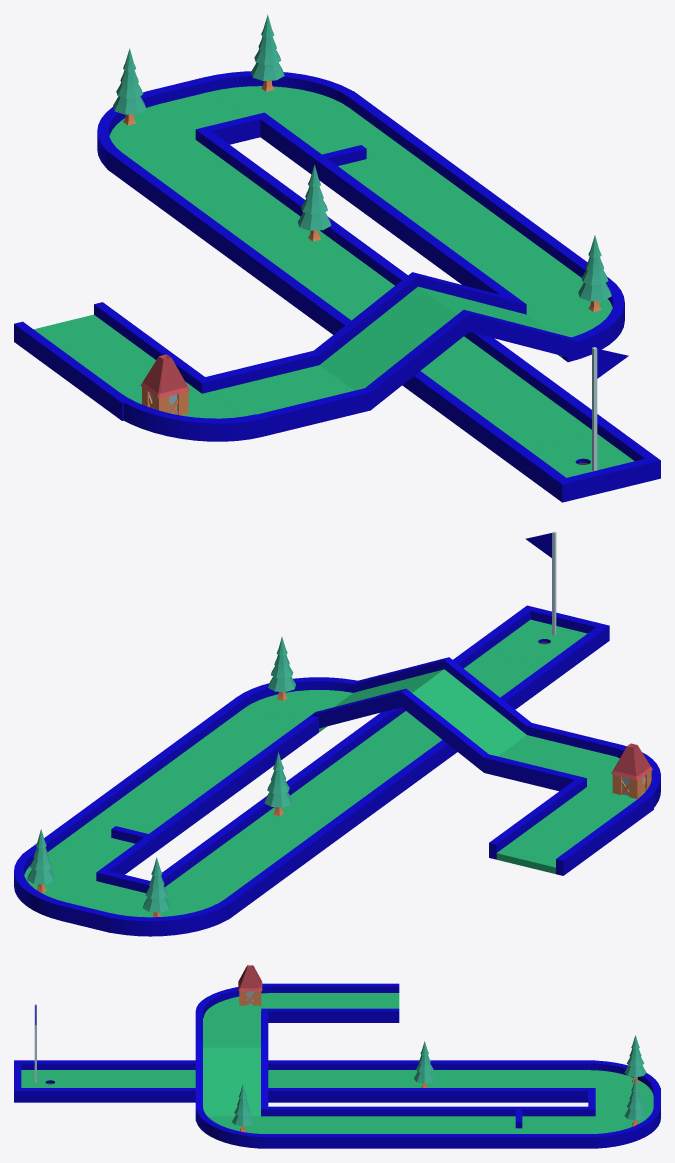
Rendered from golftrack2.obj.
The picture shows the model from 3 angles, top to bottom: view 1: azimuth 30°, elevation 25°; view 2: azimuth 150°, elevation 25°; view 3: azimuth 270°, elevation 25°; orthographic projection. The views are drawn at different scales.
Bounding box in the file's own units: 5 × 1.26 × 8.9.
